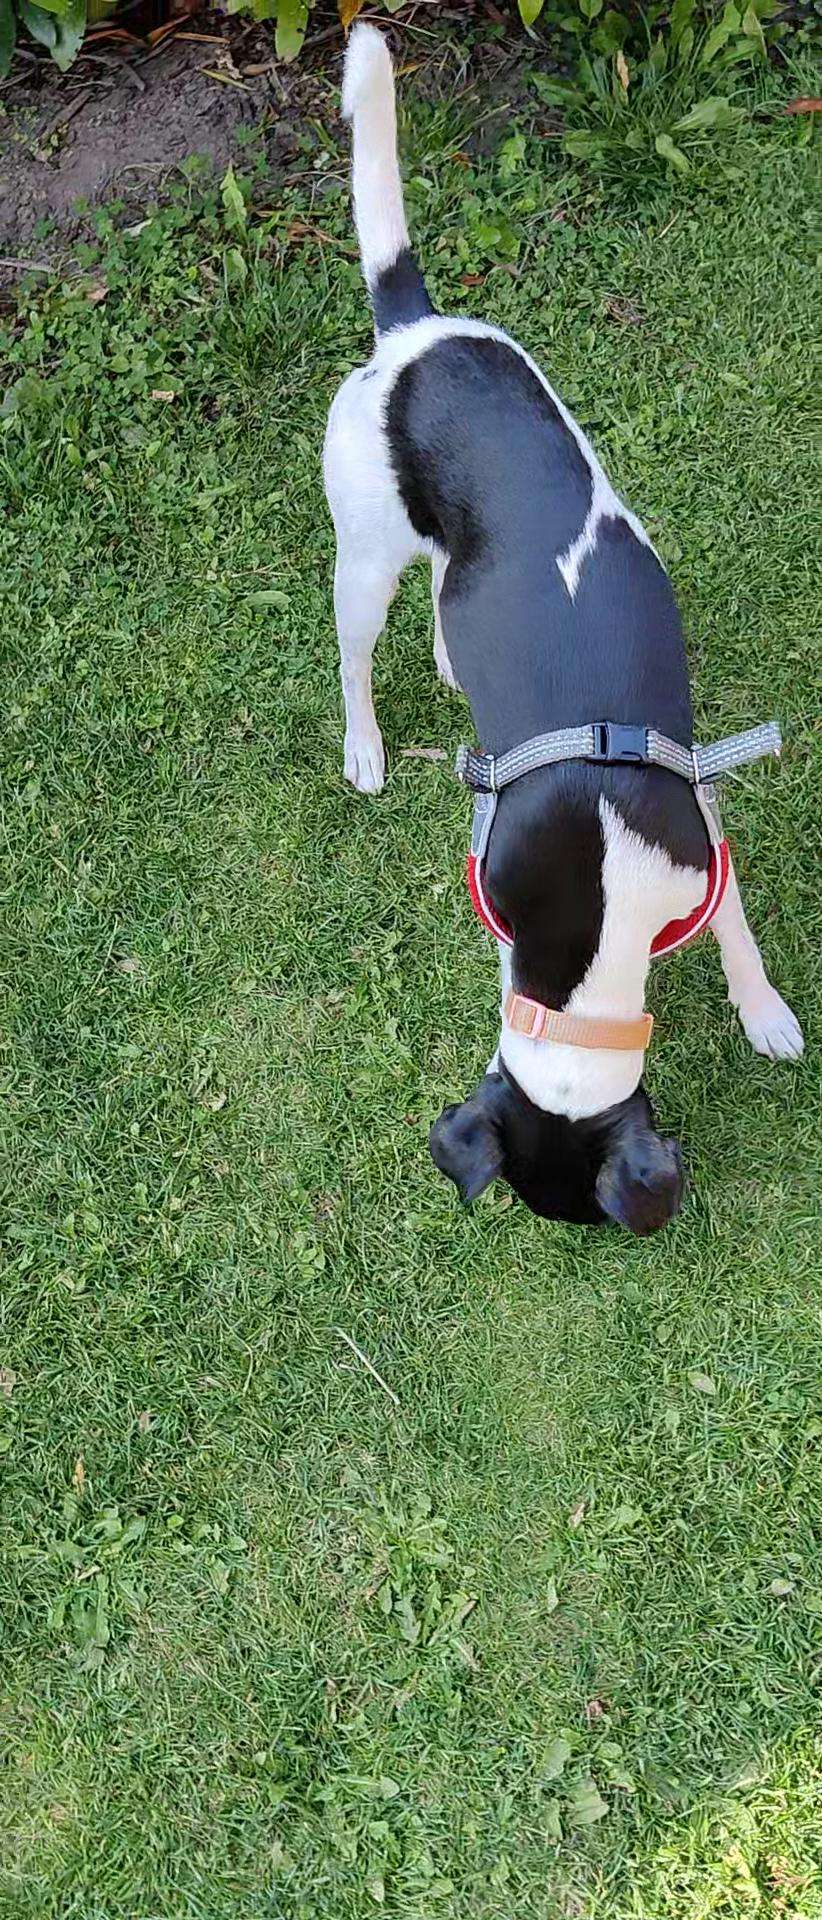Dog: (304, 15, 810, 1245)
